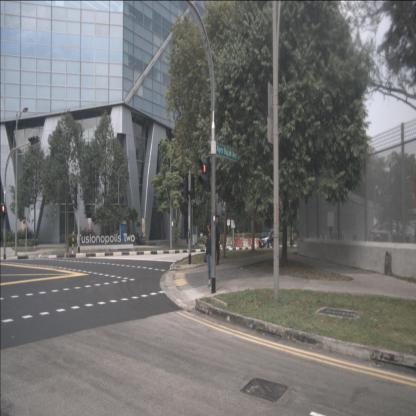human-pedestrian-adult: (204, 219, 216, 288), (212, 214, 222, 266)
movable_object-barrier: (234, 238, 243, 247), (246, 238, 253, 247), (251, 239, 257, 249), (243, 239, 249, 248), (256, 239, 262, 247)
vehicle-car: (368, 221, 414, 249), (258, 228, 280, 249)
